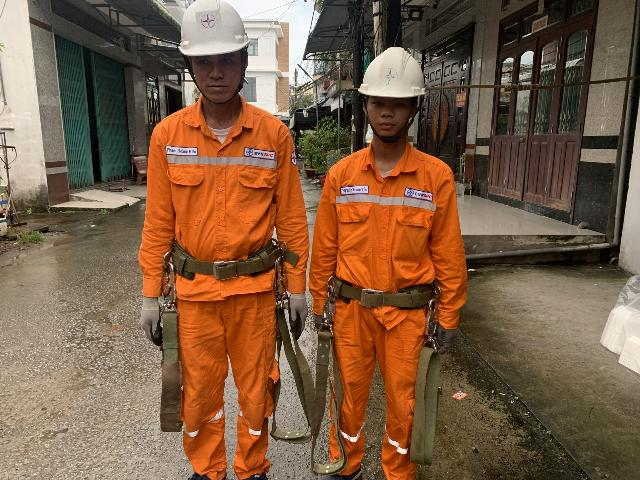gloves: (128, 293, 174, 352), (282, 284, 311, 341), (427, 312, 461, 357), (305, 300, 331, 340)
harness: (161, 235, 294, 282), (319, 266, 441, 316)
helmet: (169, 0, 259, 68), (351, 39, 434, 106)
